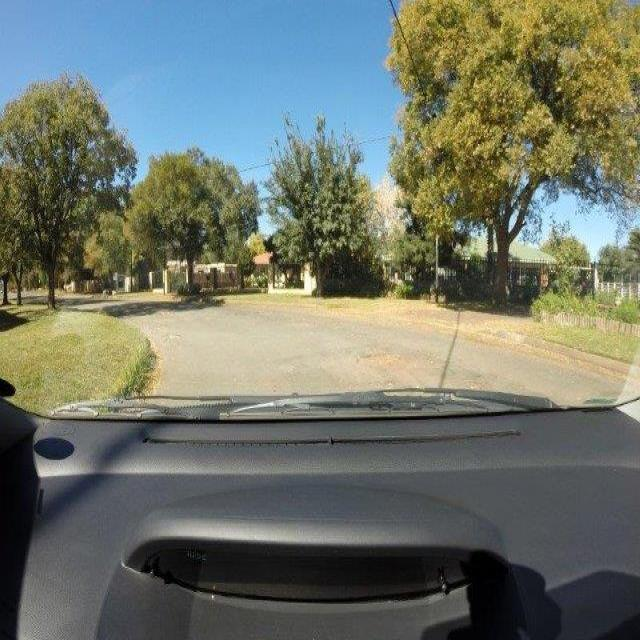lubang: (354, 343, 418, 376)
